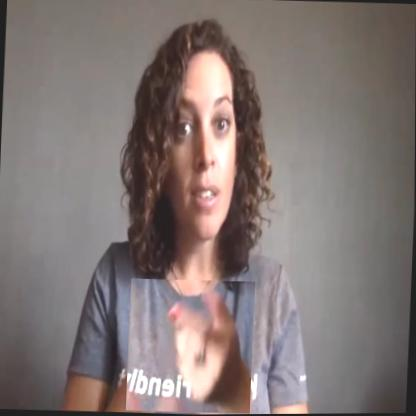HowAreYou: (126, 278, 256, 415)
